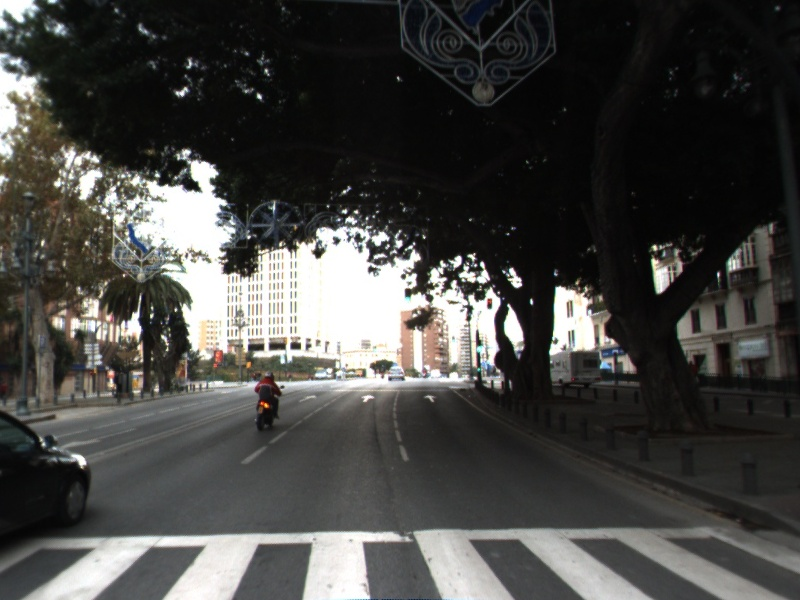STRAIGHT: (296, 393, 319, 404), (358, 392, 377, 404), (421, 393, 440, 405)
